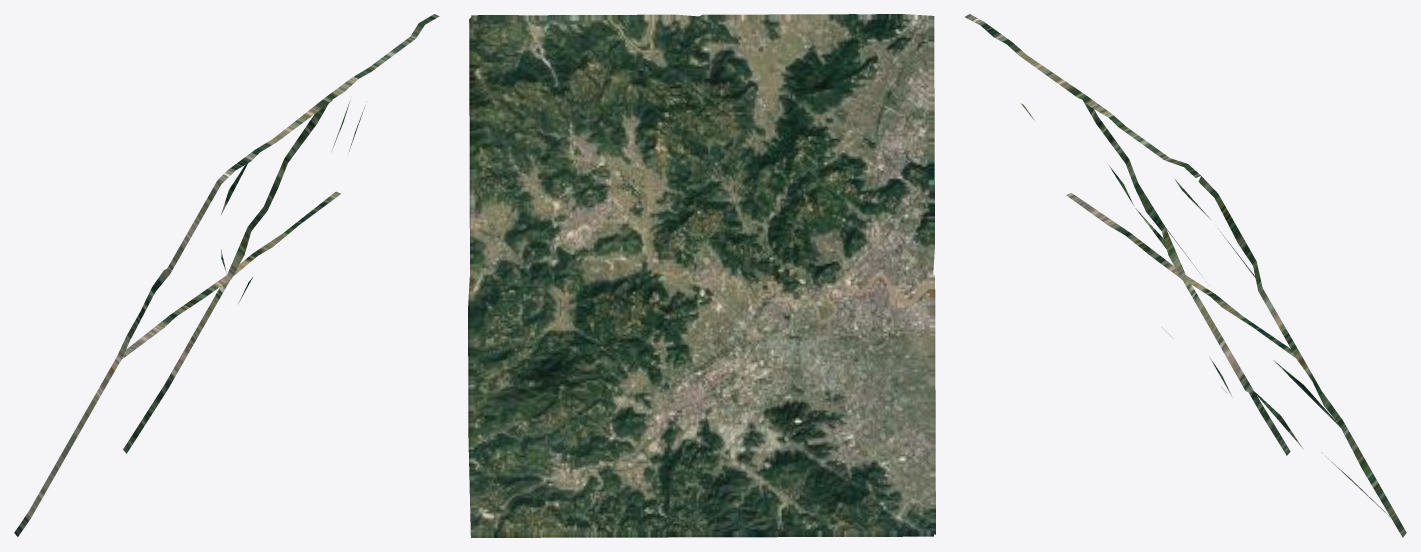
3 renders of one model, left to right at view 1: azimuth 30°, elevation 25°; view 2: azimuth 150°, elevation 25°; view 3: azimuth 270°, elevation 25°, orthographic. The views are drawn at different scales.
Size of the model in its own units: 39451 by 35250 by 34167.
1 material, 1 textured.
